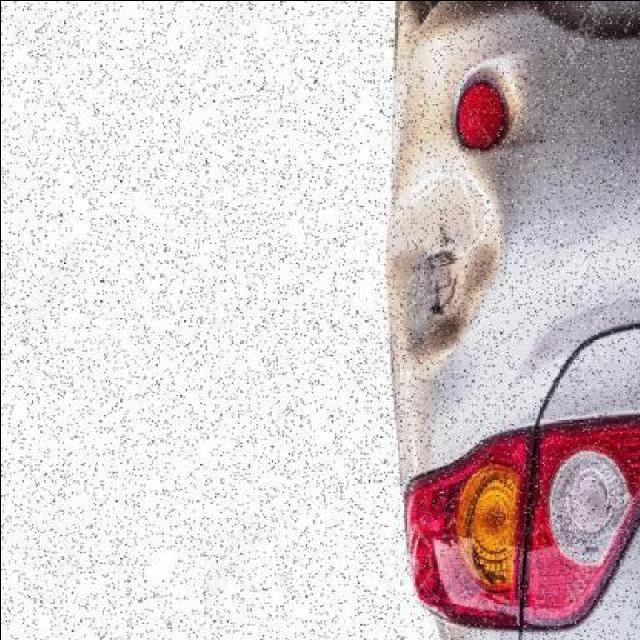rear-bumper-dent: (366, 10, 640, 424)
